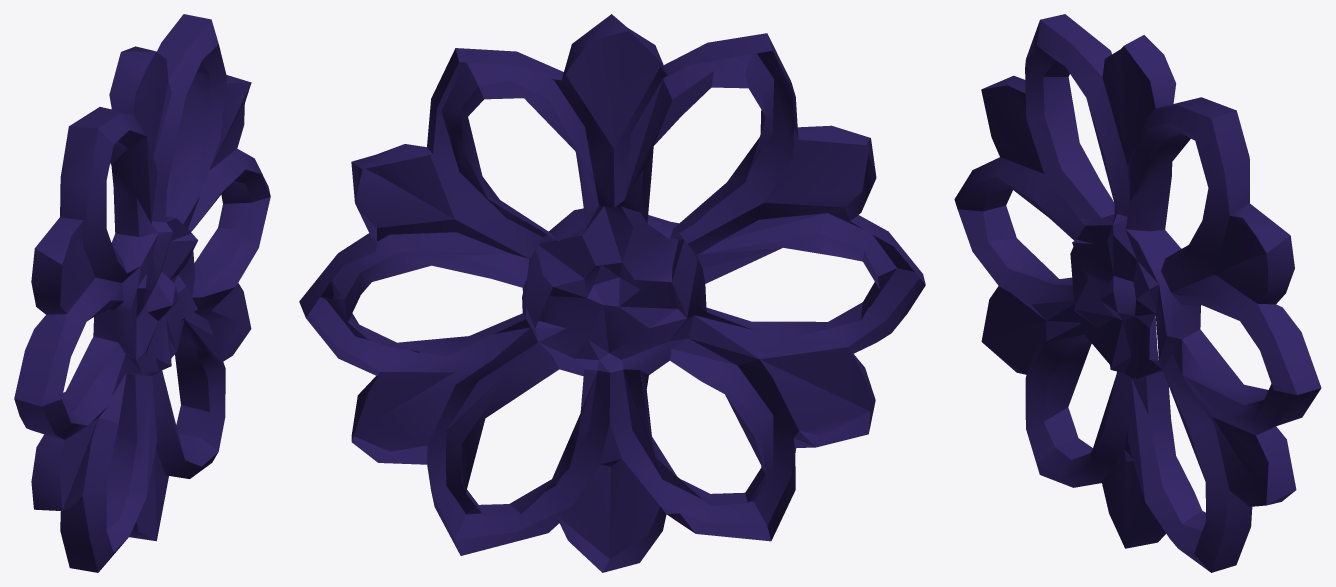
3 views of the same model, side by side, from view 1: azimuth 30°, elevation 25°; view 2: azimuth 150°, elevation 25°; view 3: azimuth 270°, elevation 25° (orthographic). The views are drawn at different scales.
Parts seen in each view (by area): view 1: SM_gateSQwall002; view 2: SM_gateSQwall002; view 3: SM_gateSQwall002.
Boxes of the visible parts, left/top/right/bottom form: SM_gateSQwall002: left=14, top=14, right=270, bottom=572; SM_gateSQwall002: left=299, top=14, right=925, bottom=572; SM_gateSQwall002: left=954, top=14, right=1321, bottom=572.
Size of the model in its own units: 56.09 by 64.24 by 42.52.
